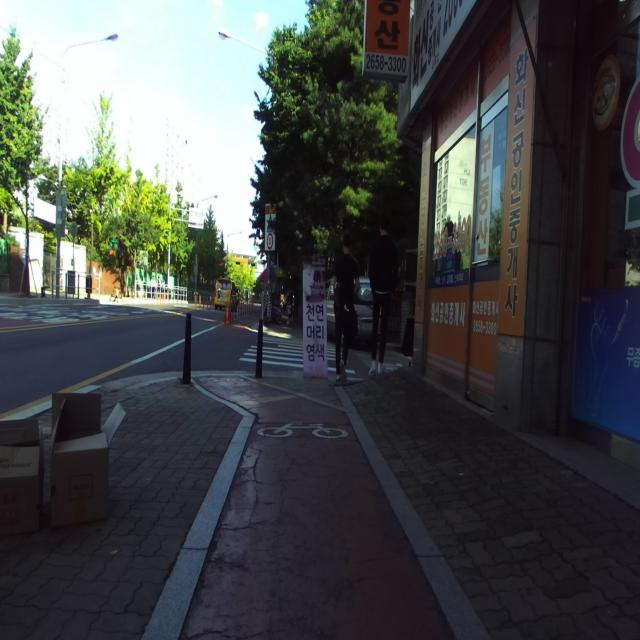횡단보도: (239, 336, 355, 374)
